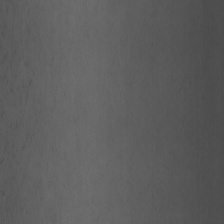silk_spot: (4, 34, 39, 149)
